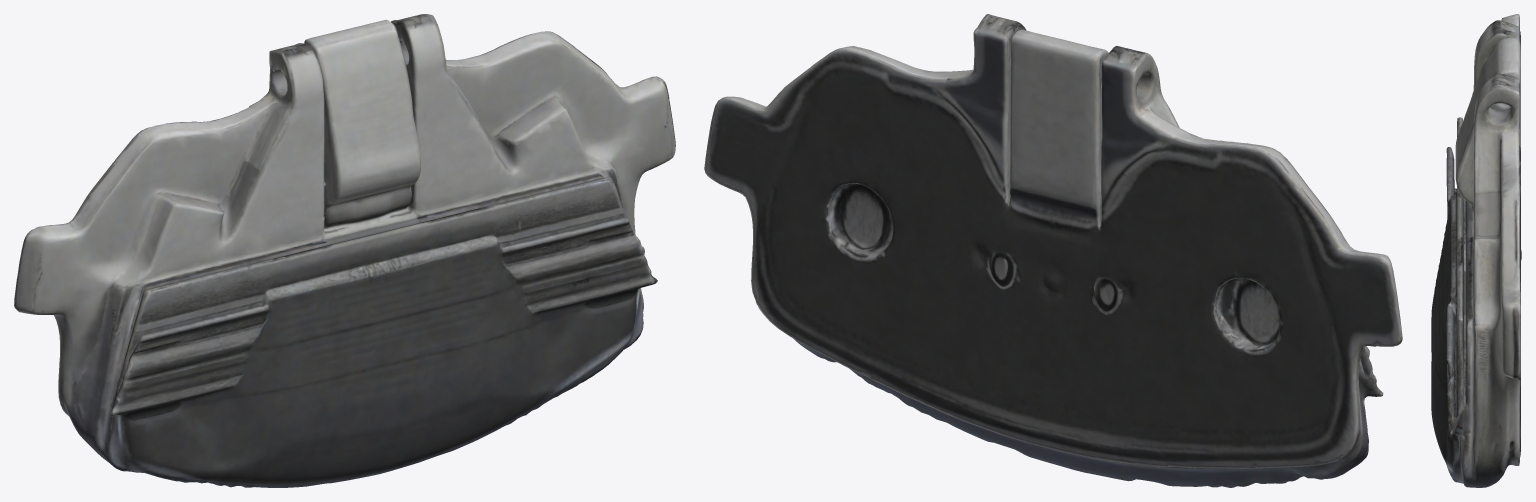
File: Brake_Pad.glb
3 views of the same model, side by side, from view 1: azimuth 30°, elevation 25°; view 2: azimuth 150°, elevation 25°; view 3: azimuth 270°, elevation 25° (orthographic). The views are drawn at different scales.
Size of the model in its own units: 2 by 1.23 by 0.265.
1 material, 1 textured.
